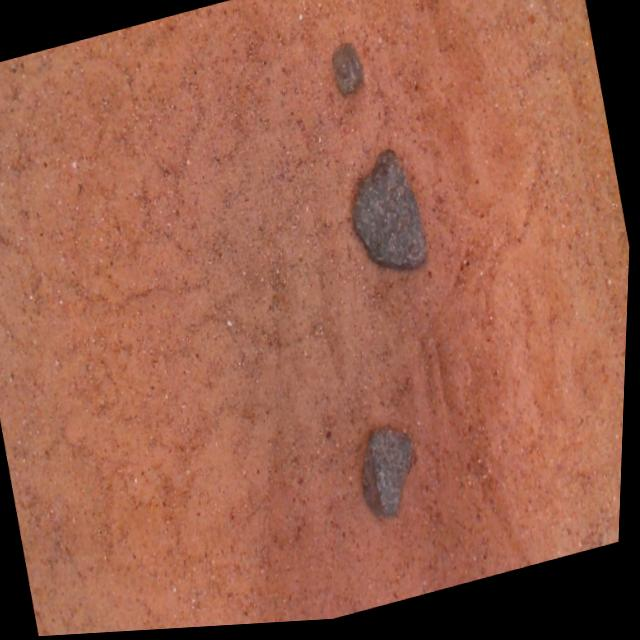rock: (354, 152, 427, 273), (366, 432, 415, 520), (331, 45, 363, 99)
